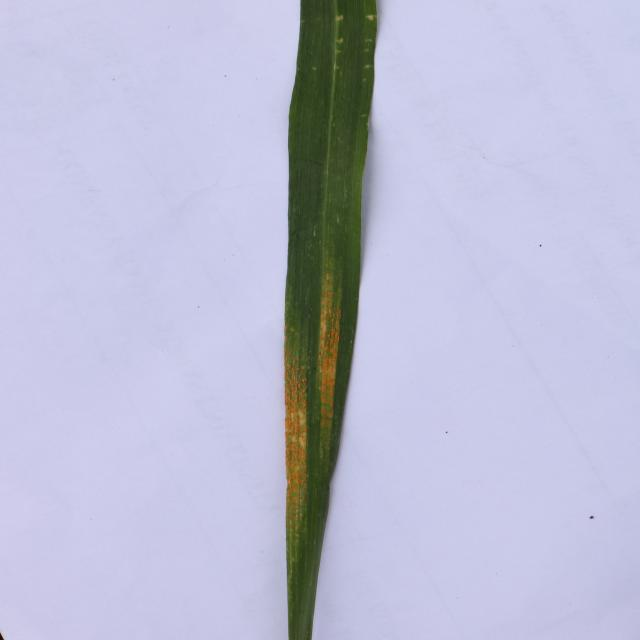Stripe Rust: (283, 349, 311, 523), (319, 270, 345, 415)
